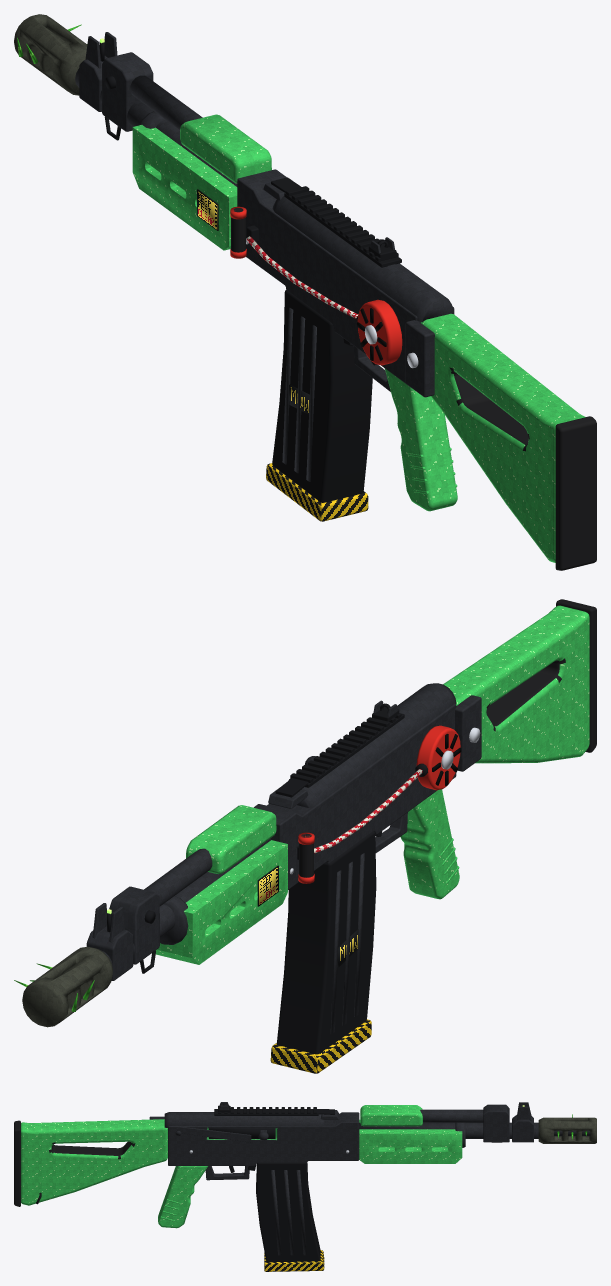
The model's file is w_autoshot.glb.
The picture shows the model from 3 angles, top to bottom: view 1: azimuth 30°, elevation 25°; view 2: azimuth 150°, elevation 25°; view 3: azimuth 270°, elevation 25°; orthographic projection. The views are drawn at different scales.
Visible parts, largest first — view 1: autoshot_body_wzA, mag_wzB, autoshot_body_wzB, autoshot_body_wzN, mag_wzN; view 2: autoshot_body_wzA, mag_wzB, autoshot_body_wzB, autoshot_body_wzN, mag_wzN; view 3: autoshot_body_wzA, autoshot_body_wzB, mag_wzB, mag_wzN.
Boxes of the visible parts, <box> form: autoshot_body_wzA: <box>132,114,596,570</box>; mag_wzB: <box>272,290,372,502</box>; autoshot_body_wzB: <box>14,14,401,365</box>; autoshot_body_wzN: <box>17,24,418,368</box>; mag_wzN: <box>266,384,368,521</box>; autoshot_body_wzA: <box>155,599,596,964</box>; mag_wzB: <box>277,831,376,1054</box>; autoshot_body_wzB: <box>22,703,427,1027</box>; autoshot_body_wzN: <box>14,725,480,1011</box>; mag_wzN: <box>270,929,371,1073</box>; autoshot_body_wzA: <box>14,1102,462,1228</box>; autoshot_body_wzB: <box>36,1102,596,1204</box>; mag_wzB: <box>256,1161,320,1262</box>; mag_wzN: <box>264,1250,324,1271</box>.
Bounding box in the file's own units: 0.111 × 0.3899 × 1.27.
14 materials, 8 textured.
